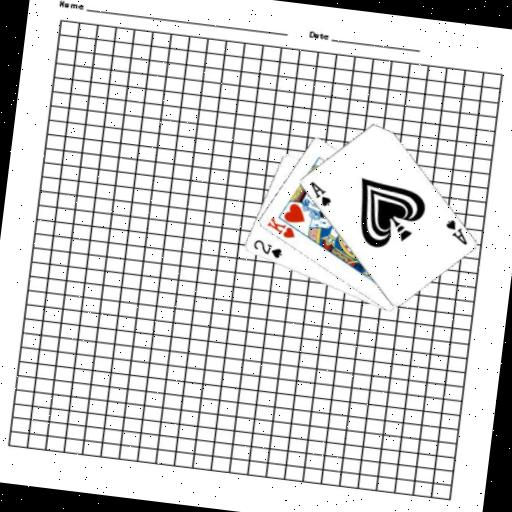2S: (249, 237, 285, 261)
AS: (440, 215, 471, 247), (304, 178, 335, 209)
KH: (262, 213, 298, 241)
